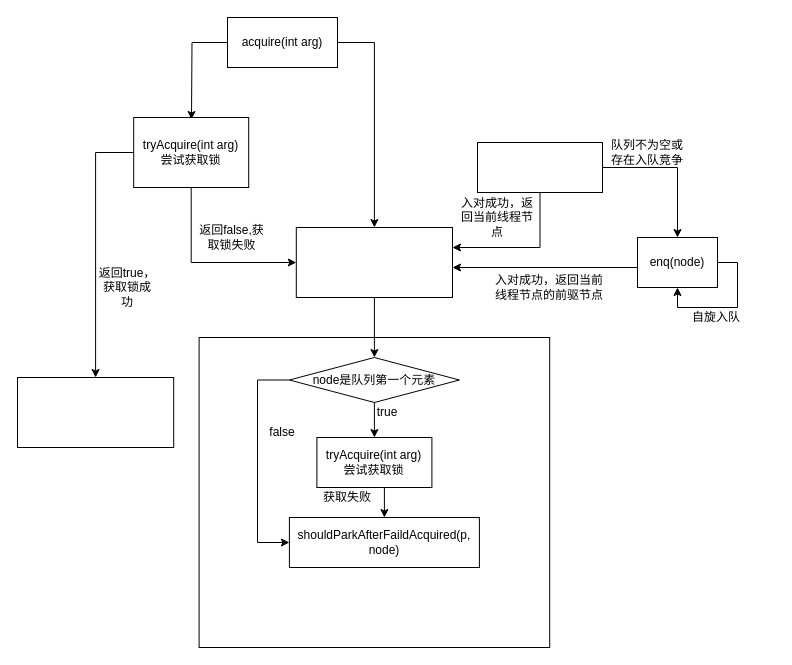
Image size: 792x665. Some labels were removed from this diagram. Each missing label, with the centre of its shape:
"acquireQueued(node, arg)" goes at point 373,262.
"addWaiter(node)" goes at point 539,167.
"setExclusiveOnwerThread (Thread.currentThread) 设置当前线程为锁持有者" goes at point 95,412.
